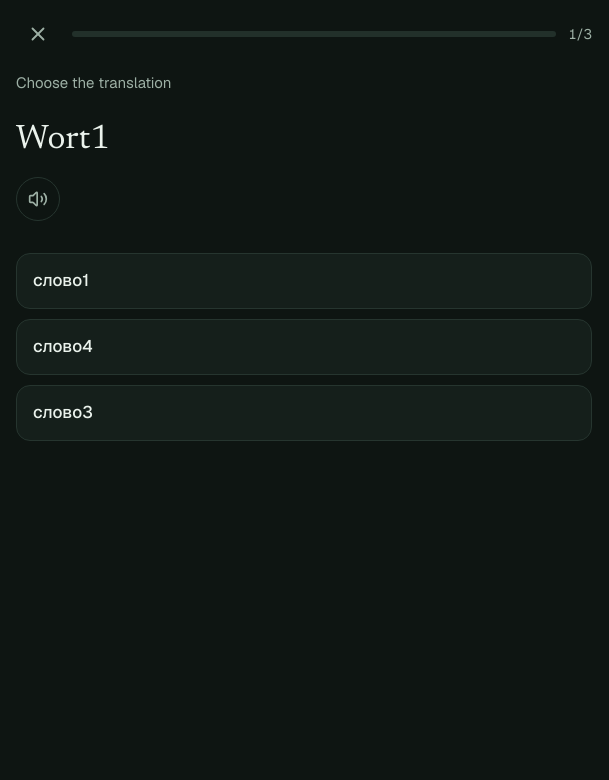
Test: answering a choice question › a right pick: marked with a check, the others dimmed, the sheet says "Correct!" with the word and its translation
The image size is (609, 780).
Click the button "слово1". click: (61, 280)
box: x1=16 y1=253 x2=592 y2=309
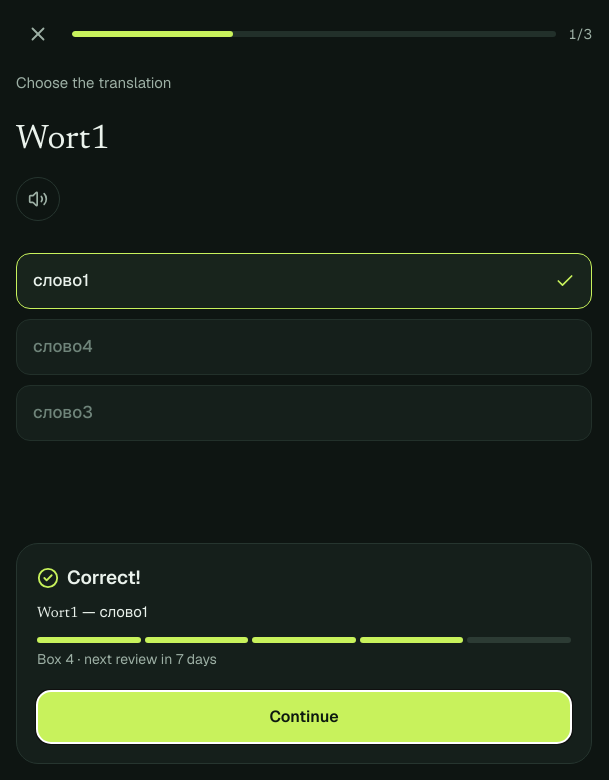
Result: the 3rd icon is shown at x1=555 y1=271 x2=575 y2=291
Result: the button "слово4" is disabled at x1=16 y1=319 x2=592 y2=375
Result: the button "слово3" is disabled at x1=16 y1=385 x2=592 y2=441
